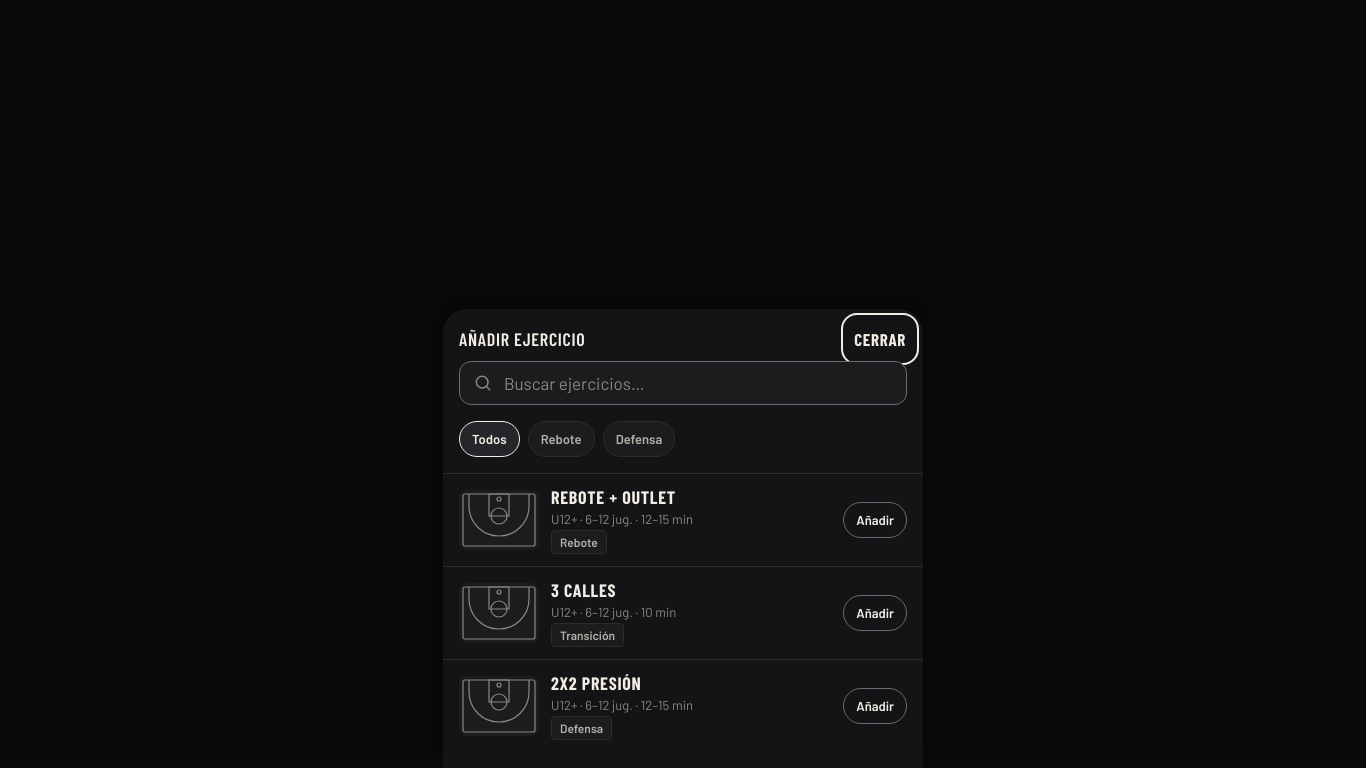
Test: DrillPicker · buscar y filtrar › buscar pide al servidor ese texto y enseña lo que vuelve
expect the text "3 calles" is shown: met, box x1=551 y1=579 x2=616 y2=601
Type "outlet" into the search field labelled "Buscar ejercicios" at [683, 383], box x1=459 y1=361 x2=907 y2=405
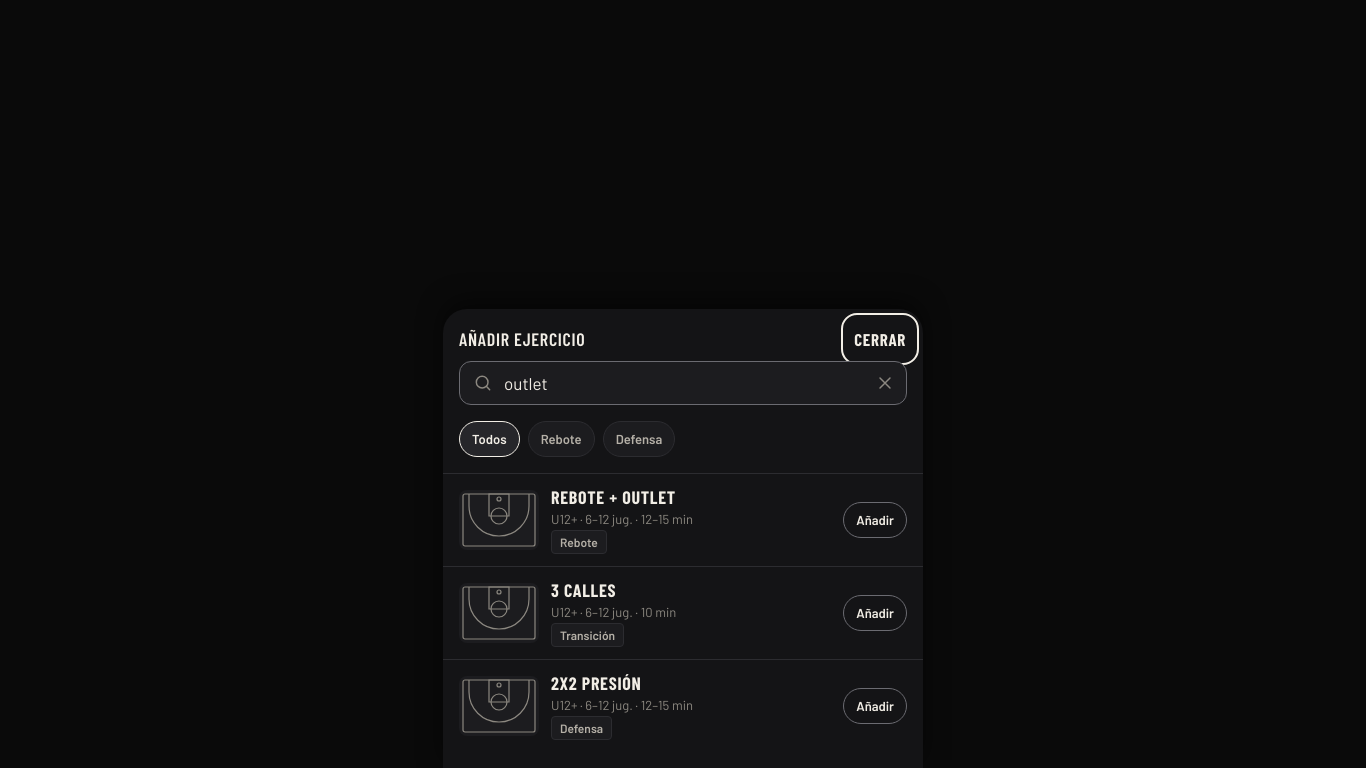
Press Enter in the search field named "Buscar ejercicios", box x1=459 y1=361 x2=907 y2=405
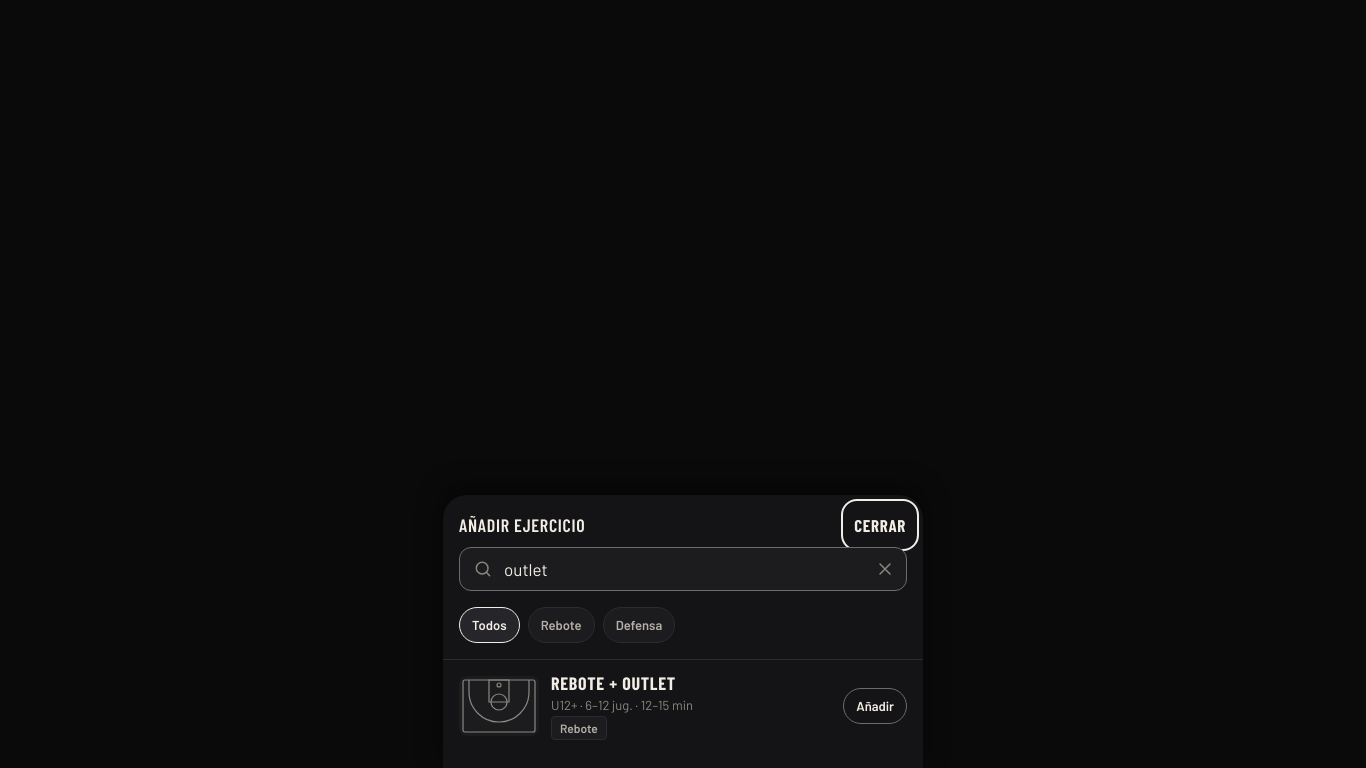
expect the link shows "Rebote + outlet": met, box x1=459 y1=672 x2=693 y2=740
expect the number of links is 1: met, box x1=459 y1=672 x2=693 y2=740
